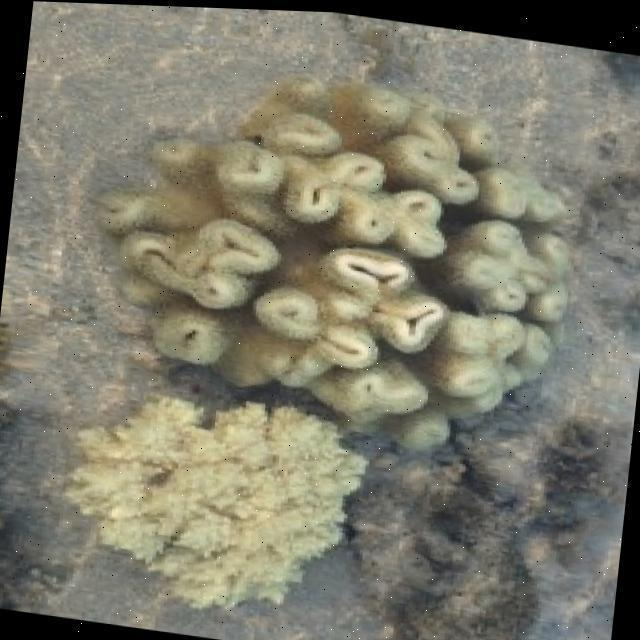Bleached Coral: (74, 32, 571, 401), (52, 401, 427, 634)
